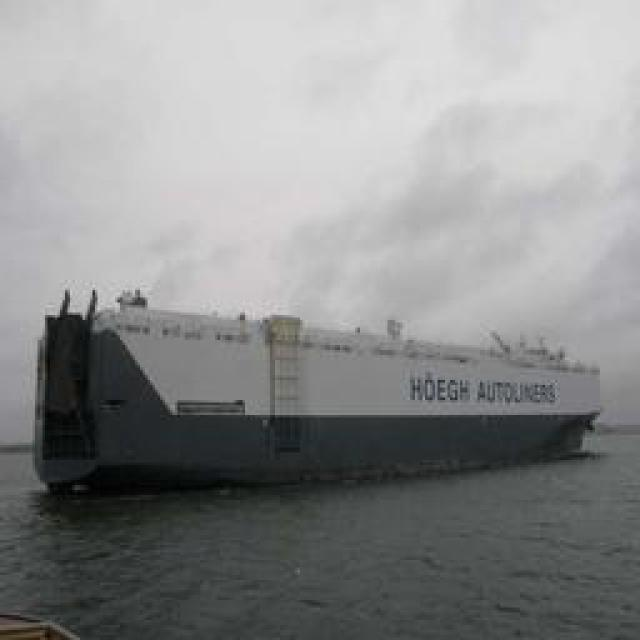Ship: (33, 287, 608, 490)
